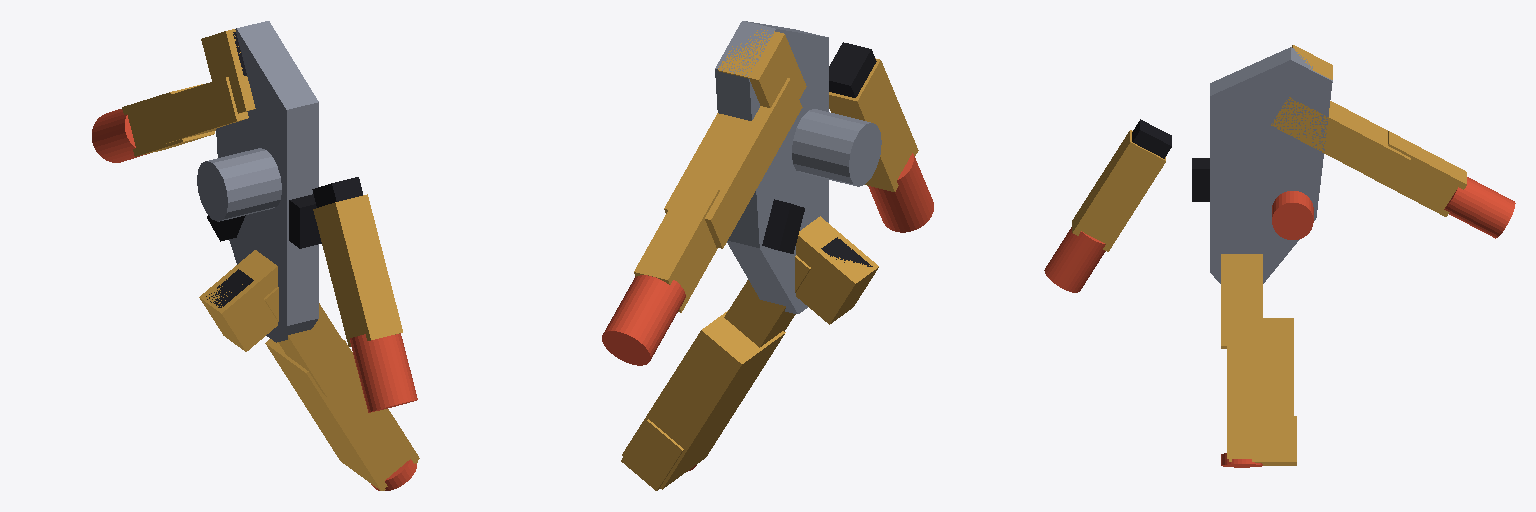
robot.urdf — g0050_c09:
<robot name="g0050_c09">
  <link name="palm">
    <visual name="palm_palm1">
      <origin xyz="0 0 0" rpy="0 0 0" />
      <geometry>
        <mesh filename="palm_palm1.obj" />
      </geometry>
      <material name="palm_palm1_mat">
        <color rgba="0.55 0.57 0.62 1" />
      </material>
    </visual>
    <collision>
      <origin xyz="0 0 0" rpy="0 0 0" />
      <geometry>
        <mesh filename="palm_palm1.obj" />
      </geometry>
    </collision>
    <visual name="palm_mount2">
      <origin xyz="0 0 0" rpy="0 0 0" />
      <geometry>
        <mesh filename="palm_mount2.obj" />
      </geometry>
      <material name="palm_mount2_mat">
        <color rgba="0.55 0.57 0.62 1" />
      </material>
    </visual>
    <collision>
      <origin xyz="0 0 0" rpy="0 0 0" />
      <geometry>
        <mesh filename="palm_mount2.obj" />
      </geometry>
    </collision>
    <visual name="palm_hinge3">
      <origin xyz="0 -0.0225 -0.02" rpy="-0 -1.57079633 0" />
      <geometry>
        <box size="0.029 0.034 0.02" />
      </geometry>
      <material name="palm_hinge3_mat">
        <color rgba="0.15 0.15 0.17 1" />
      </material>
    </visual>
    <collision>
      <origin xyz="0 -0.0225 -0.02" rpy="-0 -1.57079633 0" />
      <geometry>
        <box size="0.029 0.034 0.02" />
      </geometry>
    </collision>
    <visual name="palm_motor4">
      <origin xyz="-0.030841978 2.44988259e-18 -0.0867548095" rpy="1.57079633 -0.523598776 -1.41410032e-16" />
      <geometry>
        <box size="0.029 0.034 0.02" />
      </geometry>
      <material name="palm_motor4_mat">
        <color rgba="0.15 0.15 0.17 1" />
      </material>
    </visual>
    <collision>
      <origin xyz="-0.030841978 2.44988259e-18 -0.0867548095" rpy="1.57079633 -0.523598776 -1.41410032e-16" />
      <geometry>
        <box size="0.029 0.034 0.02" />
      </geometry>
    </collision>
    <visual name="palm_motor5">
      <origin xyz="-0.007 0.04 -0.04" rpy="3.14159265 -1.04719755 -1.57079633" />
      <geometry>
        <box size="0.029 0.034 0.02" />
      </geometry>
      <material name="palm_motor5_mat">
        <color rgba="0.15 0.15 0.17 1" />
      </material>
    </visual>
    <collision>
      <origin xyz="-0.007 0.04 -0.04" rpy="3.14159265 -1.04719755 -1.57079633" />
      <geometry>
        <box size="0.029 0.034 0.02" />
      </geometry>
    </collision>
    <visual name="palm_motor6">
      <origin xyz="-0.0045 0.0467548095 0.0666996732" rpy="1.57079633 1.04719755 -1.57079633" />
      <geometry>
        <box size="0.029 0.034 0.02" />
      </geometry>
      <material name="palm_motor6_mat">
        <color rgba="0.15 0.15 0.17 1" />
      </material>
    </visual>
    <collision>
      <origin xyz="-0.0045 0.0467548095 0.0666996732" rpy="1.57079633 1.04719755 -1.57079633" />
      <geometry>
        <box size="0.029 0.034 0.02" />
      </geometry>
    </collision>
    <inertial>
      <origin xyz="4.86298615e-20 0.0177973103 -0.00642626876" rpy="-1.57079633 1.38950967 -1.57079633" />
      <mass value="0.635029765" />
      <inertia ixx="0.000390938779" ixy="0" ixz="0" iyy="0.0017391058" iyz="0" izz="0.00206908172" />
    </inertial>
  </link>
  <link name="palm0">
    <visual name="palm0_palm1">
      <origin xyz="0 0 0" rpy="0 0 0" />
      <geometry>
        <mesh filename="palm0_palm1.obj" />
      </geometry>
      <material name="palm0_palm1_mat">
        <color rgba="0.55 0.57 0.62 1" />
      </material>
    </visual>
    <collision>
      <origin xyz="0 0 0" rpy="0 0 0" />
      <geometry>
        <mesh filename="palm0_palm1.obj" />
      </geometry>
    </collision>
    <visual name="palm0_motor2">
      <origin xyz="0 -0.04625 0.0264951905" rpy="1.57079633 -0.523598776 -1.57079633" />
      <geometry>
        <box size="0.029 0.034 0.02" />
      </geometry>
      <material name="palm0_motor2_mat">
        <color rgba="0.15 0.15 0.17 1" />
      </material>
    </visual>
    <collision>
      <origin xyz="0 -0.04625 0.0264951905" rpy="1.57079633 -0.523598776 -1.57079633" />
      <geometry>
        <box size="0.029 0.034 0.02" />
      </geometry>
    </collision>
    <inertial>
      <origin xyz="0 -0.0278864778 0.0137968528" rpy="1.57079633 -1.43809272 -1.57079633" />
      <mass value="0.213686579" />
      <inertia ixx="6.30598051e-05" ixy="0" ixz="0" iyy="0.00019900846" iyz="0" izz="0.000241554353" />
    </inertial>
  </link>
  <link name="f0_link0">
    <visual name="f0_link0_link1">
      <origin xyz="0.03375 0 0" rpy="0 4.06369831e-17 0" />
      <geometry>
        <box size="0.0915 0.024 0.033" />
      </geometry>
      <material name="f0_link0_link1_mat">
        <color rgba="0.80 0.62 0.30 1" />
      </material>
    </visual>
    <collision>
      <origin xyz="0.03375 0 0" rpy="0 4.06369831e-17 0" />
      <geometry>
        <box size="0.0915 0.024 0.033" />
      </geometry>
    </collision>
    <inertial>
      <origin xyz="0.03375 0 0" rpy="0 0 0" />
      <mass value="0.126819" />
      <inertia ixx="1.75961363e-05" ixy="0" ixz="0" iyy="9.99888553e-05" iyz="0" izz="9.45673431e-05" />
    </inertial>
  </link>
  <link name="f0_link1">
    <visual name="f0_link1_link1">
      <origin xyz="0.029 0 -6.9388939e-18" rpy="-1.57079633 -0 -1.57079633" />
      <geometry>
        <cylinder radius="0.0165" length="0.049" />
      </geometry>
      <material name="f0_link1_link1_mat">
        <color rgba="0.85 0.35 0.25 1" />
      </material>
    </visual>
    <collision>
      <origin xyz="0.029 0 -6.9388939e-18" rpy="-1.57079633 -0 -1.57079633" />
      <geometry>
        <cylinder radius="0.0165" length="0.049" />
      </geometry>
    </collision>
    <inertial>
      <origin xyz="0.029 0 0" rpy="0 0 0" />
      <mass value="0.106270851" />
      <inertia ixx="1.35696277e-05" ixy="0" ixz="0" iyy="5.30015704e-05" iyz="0" izz="5.30015704e-05" />
    </inertial>
  </link>
  <link name="f1_link0">
    <visual name="f1_link0_link1">
      <origin xyz="-0.00625 -0.0165 1.54074396e-33" rpy="-5.52779628e-33 -5.52024069e-33 4.06369831e-17" />
      <geometry>
        <box size="0.0365 0.053 0.029" />
      </geometry>
      <material name="f1_link0_link1_mat">
        <color rgba="0.80 0.62 0.30 1" />
      </material>
    </visual>
    <collision>
      <origin xyz="-0.00625 -0.0165 1.54074396e-33" rpy="-5.52779628e-33 -5.52024069e-33 4.06369831e-17" />
      <geometry>
        <box size="0.0365 0.053 0.029" />
      </geometry>
    </collision>
    <inertial>
      <origin xyz="-0.00625 -0.0165 0" rpy="0 0 0" />
      <mass value="0.098175875" />
      <inertia ixx="2.98618286e-05" ixy="0" ixz="0" iyy="1.778006e-05" iyz="0" izz="3.38809035e-05" />
    </inertial>
  </link>
  <link name="f1_link1">
    <visual name="f1_link1_link1">
      <origin xyz="0.03375 6.9388939e-18 0" rpy="-5.52779628e-33 -5.52024069e-33 4.06369831e-17" />
      <geometry>
        <box size="0.0915 0.029 0.033" />
      </geometry>
      <material name="f1_link1_link1_mat">
        <color rgba="0.80 0.62 0.30 1" />
      </material>
    </visual>
    <collision>
      <origin xyz="0.03375 6.9388939e-18 0" rpy="-5.52779628e-33 -5.52024069e-33 4.06369831e-17" />
      <geometry>
        <box size="0.0915 0.029 0.033" />
      </geometry>
    </collision>
    <inertial>
      <origin xyz="0.03375 0 0" rpy="0 0 0" />
      <mass value="0.153239625" />
      <inertia ixx="2.46460397e-05" ixy="0" ixz="0" iyy="0.000120819867" iyz="0" izz="0.000117652915" />
    </inertial>
  </link>
  <link name="f1_link2">
    <visual name="f1_link2_link1">
      <origin xyz="0.04375 0 -0.0145" rpy="-5.52779628e-33 -5.52024069e-33 4.06369831e-17" />
      <geometry>
        <box size="0.1115 0.033 0.053" />
      </geometry>
      <material name="f1_link2_link1_mat">
        <color rgba="0.80 0.62 0.30 1" />
      </material>
    </visual>
    <collision>
      <origin xyz="0.04375 0 -0.0145" rpy="-5.52779628e-33 -5.52024069e-33 4.06369831e-17" />
      <geometry>
        <box size="0.1115 0.033 0.053" />
      </geometry>
    </collision>
    <inertial>
      <origin xyz="0.04375 0 -0.0145" rpy="0 0 0" />
      <mass value="0.341273625" />
      <inertia ixx="0.000110857049" ixy="0" ixz="0" iyy="0.000433453053" iyz="0" izz="0.000384537167" />
    </inertial>
  </link>
  <link name="f1_link3">
    <visual name="f1_link3_link1">
      <origin xyz="-0.00625 -6.9388939e-18 -0.0165" rpy="-5.52779628e-33 -5.52024069e-33 4.06369831e-17" />
      <geometry>
        <box size="0.0365 0.029 0.053" />
      </geometry>
      <material name="f1_link3_link1_mat">
        <color rgba="0.80 0.62 0.30 1" />
      </material>
    </visual>
    <collision>
      <origin xyz="-0.00625 -6.9388939e-18 -0.0165" rpy="-5.52779628e-33 -5.52024069e-33 4.06369831e-17" />
      <geometry>
        <box size="0.0365 0.029 0.053" />
      </geometry>
    </collision>
    <inertial>
      <origin xyz="-0.00625 0 -0.0165" rpy="0 0 0" />
      <mass value="0.098175875" />
      <inertia ixx="2.98618286e-05" ixy="0" ixz="0" iyy="3.38809035e-05" iyz="0" izz="1.778006e-05" />
    </inertial>
  </link>
  <link name="f1_link4">
    <visual name="f1_link4_link1">
      <origin xyz="0.009 6.9388939e-18 -4.62223187e-33" rpy="-1.57079633 -0 -1.57079633" />
      <geometry>
        <cylinder radius="0.0165" length="0.009" />
      </geometry>
      <material name="f1_link4_link1_mat">
        <color rgba="0.85 0.35 0.25 1" />
      </material>
    </visual>
    <collision>
      <origin xyz="0.009 6.9388939e-18 -4.62223187e-33" rpy="-1.57079633 -0 -1.57079633" />
      <geometry>
        <cylinder radius="0.0165" length="0.009" />
      </geometry>
    </collision>
    <inertial>
      <origin xyz="0.009 0 0" rpy="0 0 0" />
      <mass value="0.046399949" />
      <inertia ixx="5.41970115e-06" ixy="0" ixz="0" iyy="7.09430898e-06" iyz="0" izz="7.09430898e-06" />
    </inertial>
  </link>
  <link name="f2_link0">
    <visual name="f2_link0_link1">
      <origin xyz="0.019 6.9388939e-18 1.73472348e-18" rpy="-1.57079633 -0 -1.57079633" />
      <geometry>
        <cylinder radius="0.0165" length="0.029" />
      </geometry>
      <material name="f2_link0_link1_mat">
        <color rgba="0.85 0.35 0.25 1" />
      </material>
    </visual>
    <collision>
      <origin xyz="0.019 6.9388939e-18 1.73472348e-18" rpy="-1.57079633 -0 -1.57079633" />
      <geometry>
        <cylinder radius="0.0165" length="0.029" />
      </geometry>
    </collision>
    <inertial>
      <origin xyz="0.019 0 0" rpy="0 0 0" />
      <mass value="0.0763354" />
      <inertia ixx="9.49466441e-06" ixy="0" ixz="0" iyy="2.24143997e-05" iyz="0" izz="2.24143997e-05" />
    </inertial>
  </link>
  <link name="f3_link0">
    <visual name="f3_link0_link1">
      <origin xyz="-0.00625 0 -0.0165" rpy="0 2.57628149e-17 0" />
      <geometry>
        <box size="0.0365 0.029 0.053" />
      </geometry>
      <material name="f3_link0_link1_mat">
        <color rgba="0.80 0.62 0.30 1" />
      </material>
    </visual>
    <collision>
      <origin xyz="-0.00625 0 -0.0165" rpy="0 2.57628149e-17 0" />
      <geometry>
        <box size="0.0365 0.029 0.053" />
      </geometry>
    </collision>
    <inertial>
      <origin xyz="-0.00625 0 -0.0165" rpy="0 0 0" />
      <mass value="0.098175875" />
      <inertia ixx="2.98618286e-05" ixy="0" ixz="0" iyy="3.38809035e-05" iyz="0" izz="1.778006e-05" />
    </inertial>
  </link>
  <link name="f3_link1">
    <visual name="f3_link1_link1">
      <origin xyz="0.04375 0 6.9388939e-18" rpy="0 2.57628149e-17 0" />
      <geometry>
        <box size="0.1115 0.033 0.029" />
      </geometry>
      <material name="f3_link1_link1_mat">
        <color rgba="0.80 0.62 0.30 1" />
      </material>
    </visual>
    <collision>
      <origin xyz="0.04375 0 6.9388939e-18" rpy="0 2.57628149e-17 0" />
      <geometry>
        <box size="0.1115 0.033 0.029" />
      </geometry>
    </collision>
    <inertial>
      <origin xyz="0.04375 0 0" rpy="0 0 0" />
      <mass value="0.186734625" />
      <inertia ixx="3.00331522e-05" ixy="0" ixz="0" iyy="0.000206547947" iyz="0" izz="0.000210407129" />
    </inertial>
  </link>
  <link name="f3_link2">
    <visual name="f3_link2_link1">
      <origin xyz="0.02375 0 6.9388939e-18" rpy="0 2.57628149e-17 0" />
      <geometry>
        <box size="0.0715 0.024 0.033" />
      </geometry>
      <material name="f3_link2_link1_mat">
        <color rgba="0.80 0.62 0.30 1" />
      </material>
    </visual>
    <collision>
      <origin xyz="0.02375 0 6.9388939e-18" rpy="0 2.57628149e-17 0" />
      <geometry>
        <box size="0.0715 0.024 0.033" />
      </geometry>
    </collision>
    <inertial>
      <origin xyz="0.02375 0 0" rpy="0 0 0" />
      <mass value="0.099099" />
      <inertia ixx="1.37499863e-05" ixy="0" ixz="0" iyy="5.12114728e-05" iyz="0" izz="4.69749906e-05" />
    </inertial>
  </link>
  <link name="f3_link3">
    <visual name="f3_link3_link1">
      <origin xyz="0.029 0 0" rpy="-1.57079633 -0 -1.57079633" />
      <geometry>
        <cylinder radius="0.0165" length="0.049" />
      </geometry>
      <material name="f3_link3_link1_mat">
        <color rgba="0.85 0.35 0.25 1" />
      </material>
    </visual>
    <collision>
      <origin xyz="0.029 0 0" rpy="-1.57079633 -0 -1.57079633" />
      <geometry>
        <cylinder radius="0.0165" length="0.049" />
      </geometry>
    </collision>
    <inertial>
      <origin xyz="0.029 0 0" rpy="0 0 0" />
      <mass value="0.106270851" />
      <inertia ixx="1.35696277e-05" ixy="0" ixz="0" iyy="5.30015704e-05" iyz="0" izz="5.30015704e-05" />
    </inertial>
  </link>
  <joint name="palm0_joint" type="revolute">
    <parent link="palm" />
    <child link="palm0" />
    <origin xyz="0 -0.03 -0.02" rpy="0 0 0" />
    <axis xyz="0 0 1" />
    <limit effort="0.5" lower="-0.523598776" upper="0.523598776" velocity="5" />
    <dynamics damping="0.0775033" friction="0" />
  </joint>
  <joint name="f0_j0" type="revolute">
    <parent link="palm0" />
    <child link="f0_link0" />
    <origin xyz="0 -0.05 0.02" rpy="0 1.04719755 -1.57079633" />
    <axis xyz="0 0 1" />
    <limit effort="0.5" lower="-0.523598776" upper="1.57079633" velocity="5" />
    <dynamics damping="0.0775033" friction="0" />
  </joint>
  <joint name="f0_j1" type="revolute">
    <parent link="f0_link0" />
    <child link="f0_link1" />
    <origin xyz="0.07 0 0" rpy="0 0 0" />
    <axis xyz="0 0 1" />
    <limit effort="0.5" lower="-0.523598776" upper="1.57079633" velocity="5" />
    <dynamics damping="0.0775033" friction="0" />
  </joint>
  <joint name="f1_j0" type="revolute">
    <parent link="palm" />
    <child link="f1_link0" />
    <origin xyz="-0.00414230485 0 -0.08" rpy="1.57079633 1.04719755 2.12115048e-16" />
    <axis xyz="0 1 6.123234e-17" />
    <limit effort="0.5" lower="-0.523598776" upper="0.523598776" velocity="5" />
    <dynamics damping="0.0775033" friction="0" />
  </joint>
  <joint name="f1_j1" type="revolute">
    <parent link="f1_link0" />
    <child link="f1_link1" />
    <origin xyz="0 0 0" rpy="0 0 0" />
    <axis xyz="0 0 1" />
    <limit effort="0.5" lower="-0.523598776" upper="1.57079633" velocity="5" />
    <dynamics damping="0.0775033" friction="0" />
  </joint>
  <joint name="f1_j2" type="revolute">
    <parent link="f1_link1" />
    <child link="f1_link2" />
    <origin xyz="0.07 0 0" rpy="0 0 0" />
    <axis xyz="0 1 6.123234e-17" />
    <limit effort="0.5" lower="-0.523598776" upper="0.523598776" velocity="5" />
    <dynamics damping="0.0775033" friction="0" />
  </joint>
  <joint name="f1_j3" type="revolute">
    <parent link="f1_link2" />
    <child link="f1_link3" />
    <origin xyz="0.09 0 0" rpy="0 0 0" />
    <axis xyz="0 0 1" />
    <limit effort="0.5" lower="-0.523598776" upper="1.57079633" velocity="5" />
    <dynamics damping="0.0775033" friction="0" />
  </joint>
  <joint name="f1_j4" type="revolute">
    <parent link="f1_link3" />
    <child link="f1_link4" />
    <origin xyz="0 0 0" rpy="0 0 0" />
    <axis xyz="0 1 6.123234e-17" />
    <limit effort="0.5" lower="-0.523598776" upper="0.523598776" velocity="5" />
    <dynamics damping="0.0775033" friction="0" />
  </joint>
  <joint name="f2_j0" type="revolute">
    <parent link="palm" />
    <child link="f2_link0" />
    <origin xyz="0.0005 0.04 -0.04" rpy="2.0943951 5.30287619e-17 3.061617e-17" />
    <axis xyz="0 1 6.123234e-17" />
    <limit effort="0.5" lower="-0.523598776" upper="0.523598776" velocity="5" />
    <dynamics damping="0.0775033" friction="0" />
  </joint>
  <joint name="f3_j0" type="revolute">
    <parent link="palm" />
    <child link="f3_link0" />
    <origin xyz="-0.0045 0.04 0.04" rpy="3.14159265 0.523598776 1.57079633" />
    <axis xyz="0 0 1" />
    <limit effort="0.5" lower="-0.523598776" upper="1.57079633" velocity="5" />
    <dynamics damping="0.0775033" friction="0" />
  </joint>
  <joint name="f3_j1" type="revolute">
    <parent link="f3_link0" />
    <child link="f3_link1" />
    <origin xyz="0 0 0" rpy="0 0 0" />
    <axis xyz="0 1 6.123234e-17" />
    <limit effort="0.5" lower="-0.523598776" upper="0.523598776" velocity="5" />
    <dynamics damping="0.0775033" friction="0" />
  </joint>
  <joint name="f3_j2" type="revolute">
    <parent link="f3_link1" />
    <child link="f3_link2" />
    <origin xyz="0.09 0 0" rpy="0 0 0" />
    <axis xyz="0 0 1" />
    <limit effort="0.5" lower="-0.523598776" upper="1.57079633" velocity="5" />
    <dynamics damping="0.0775033" friction="0" />
  </joint>
  <joint name="f3_j3" type="revolute">
    <parent link="f3_link2" />
    <child link="f3_link3" />
    <origin xyz="0.05 0 0" rpy="0 0 0" />
    <axis xyz="0 0 1" />
    <limit effort="0.5" lower="-0.523598776" upper="1.57079633" velocity="5" />
    <dynamics damping="0.0775033" friction="0" />
  </joint>
</robot>

--- Render facts (derived) ---
Views: 3 orthographic renders of the robot side by side, from view 1: azimuth 30°, elevation 25°; view 2: azimuth 150°, elevation 25°; view 3: azimuth 270°, elevation 25°.
Model g0050_c09 with 14 links and 13 joints (13 revolute), rooted at palm, posed all joints at 0.
Visible links, largest first — view 1: palm, f0_link0, f1_link2, f1_link0, f3_link1, f0_link1, f1_link1, f3_link0, f3_link3, f3_link2, palm0, f1_link4; view 2: palm, f1_link2, f3_link1, f3_link2, f1_link0, f3_link3, f0_link0, f3_link0, f0_link1, f1_link1, f1_link3, palm0; view 3: palm, f1_link2, f3_link1, f0_link0, f3_link2, f1_link1, f3_link3, f0_link1, f2_link0, palm0.
Link boxes in pixels (x1,y1,x2,y2): palm: (197, 21, 321, 342); f0_link0: (313, 194, 402, 346); f1_link2: (265, 339, 419, 490); f1_link0: (199, 250, 277, 351); f3_link1: (150, 77, 248, 144); f0_link1: (350, 333, 417, 412); f1_link1: (264, 287, 357, 396); f3_link0: (201, 29, 255, 113); f3_link3: (92, 109, 149, 162); f3_link2: (122, 84, 214, 156); palm0: (312, 177, 362, 207); f1_link4: (371, 459, 416, 490); palm: (715, 21, 881, 313); f1_link2: (622, 311, 785, 489); f3_link1: (664, 78, 802, 248); f3_link2: (634, 181, 719, 312); f1_link0: (796, 216, 878, 324); f3_link3: (602, 275, 685, 365); f0_link0: (829, 58, 918, 191); f3_link0: (718, 29, 806, 107); f0_link1: (868, 153, 933, 232); f1_link1: (724, 255, 810, 347); f1_link3: (621, 419, 683, 490); palm0: (829, 42, 876, 97); palm: (1192, 47, 1332, 283); f1_link2: (1227, 318, 1293, 458); f3_link1: (1271, 97, 1410, 188); f0_link0: (1072, 130, 1165, 251); f3_link2: (1375, 131, 1466, 216); f1_link1: (1221, 254, 1262, 348); f3_link3: (1444, 177, 1515, 238); f0_link1: (1044, 227, 1105, 292); f2_link0: (1272, 191, 1313, 239); palm0: (1132, 119, 1171, 158).
Bounding box of the posed robot: 0.1505 × 0.3719 × 0.329 m (x, y, z).
2 mesh visuals loaded from 3 distinct referenced files (2 OBJ); not drawn: 1 (reference not matched to a file when rendering).
